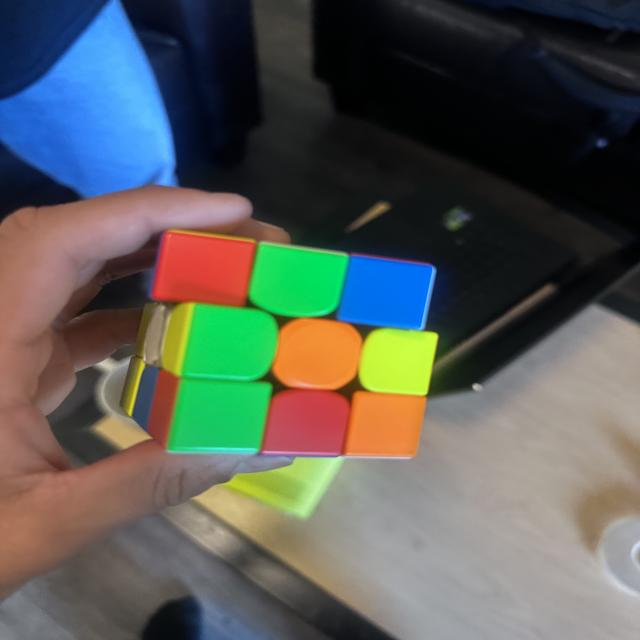sticker: (167, 303, 278, 384), (163, 376, 273, 457), (150, 228, 258, 310), (335, 253, 437, 334), (248, 242, 350, 320), (257, 387, 354, 461), (270, 317, 363, 392), (341, 390, 429, 461), (356, 328, 438, 398), (125, 361, 162, 433), (147, 369, 180, 447), (118, 355, 147, 421)
